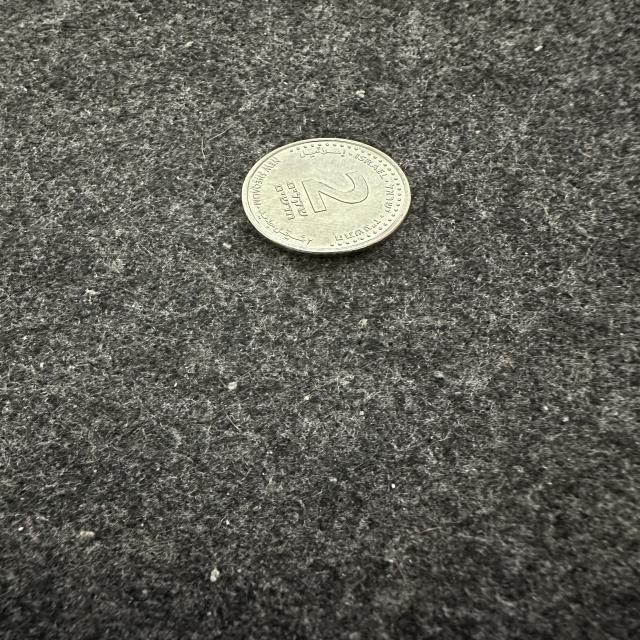2-shekel: (239, 138, 413, 258)
